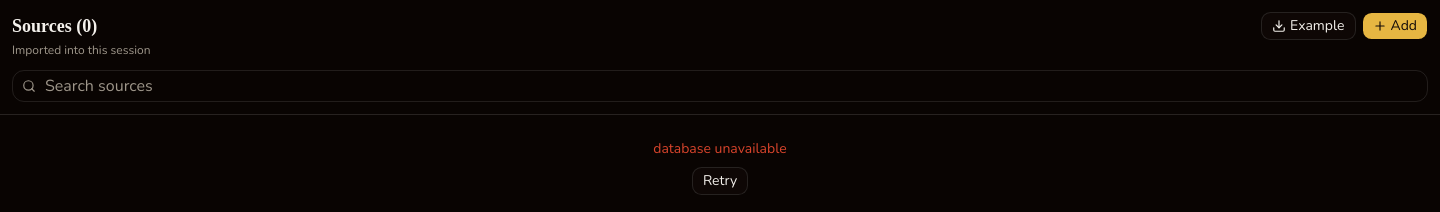
Test: StudySourcesPanel › retrying reloads the sources
The image size is (1440, 212).
Click the button "Retry".
click(720, 181)  # box [692,167,748,195]
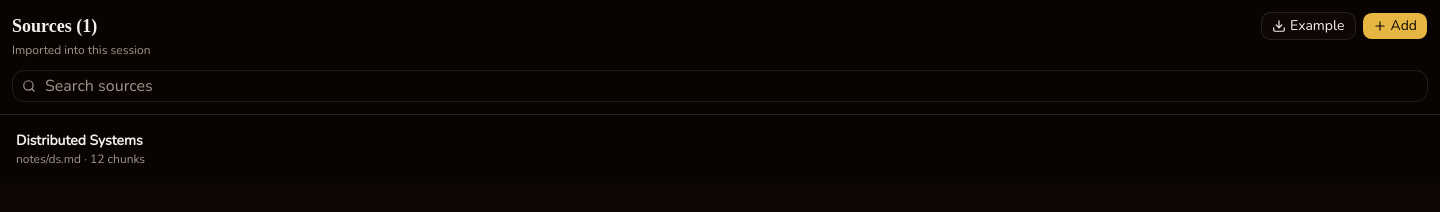
Check: the text "Distributed Systems" is shown, box [16,131,143,150]
